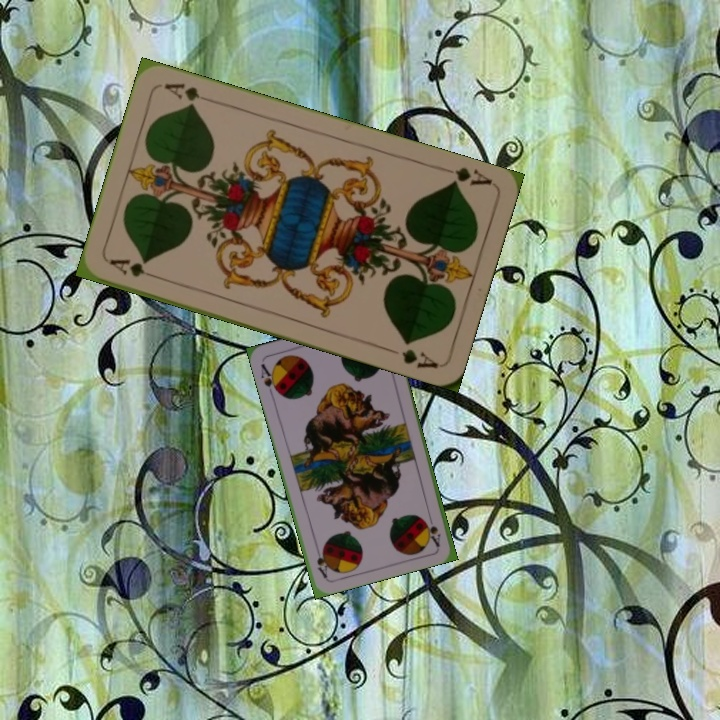GA: (106, 255, 163, 282), (446, 162, 495, 189)
SA: (257, 360, 282, 399), (422, 508, 443, 548)
